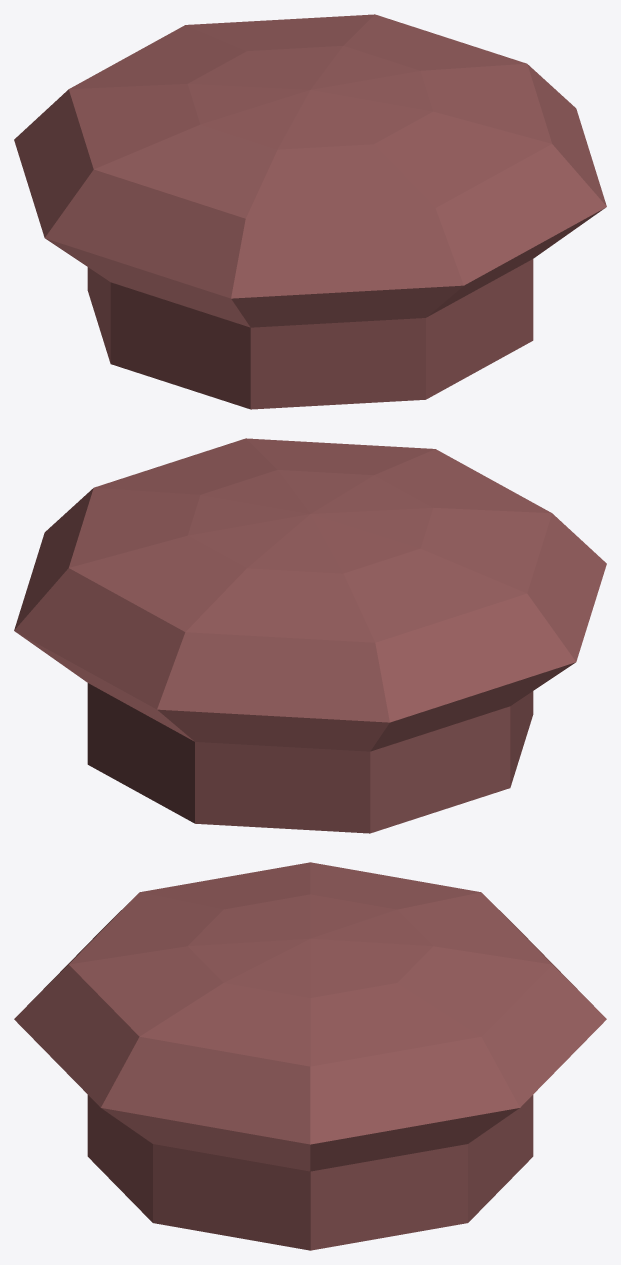
File: ButtonTop_Mesh.fbx
3 renders of one model, top to bottom at view 1: azimuth 30°, elevation 25°; view 2: azimuth 150°, elevation 25°; view 3: azimuth 270°, elevation 25°, orthographic. The views are drawn at different scales.
Parts seen in each view (by area): view 1: polySurface14; view 2: polySurface14; view 3: polySurface14.
Boxes of the visible parts, bbox=[...] form: polySurface14: bbox=[14, 14, 606, 409]; polySurface14: bbox=[14, 438, 606, 833]; polySurface14: bbox=[14, 862, 606, 1250].
Bounding box in the file's own units: 12.26 × 4.97 × 12.26.
